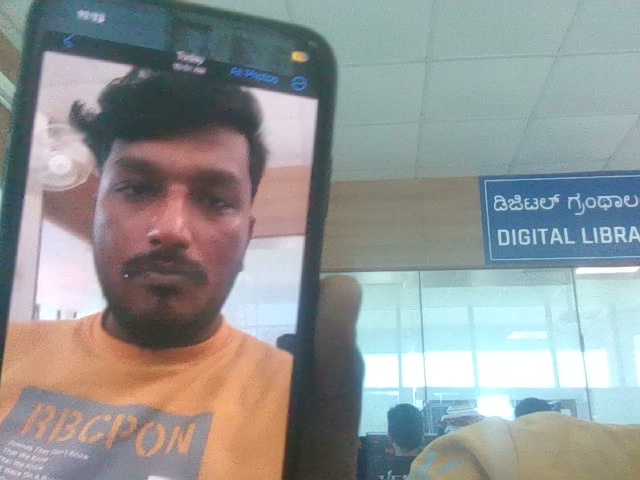fake: (62, 35, 286, 352)
